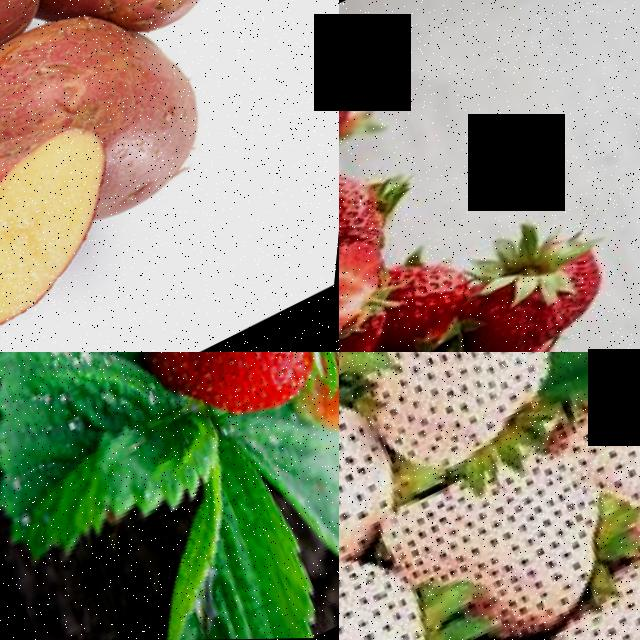strawberry: (409, 424, 640, 640), (339, 352, 588, 486), (464, 226, 638, 352), (339, 374, 424, 605), (148, 352, 339, 438), (565, 352, 640, 570), (383, 240, 488, 342), (339, 233, 415, 352), (339, 144, 401, 286), (339, 50, 385, 162)
sweet potato: (0, 99, 172, 352), (0, 0, 147, 170)
